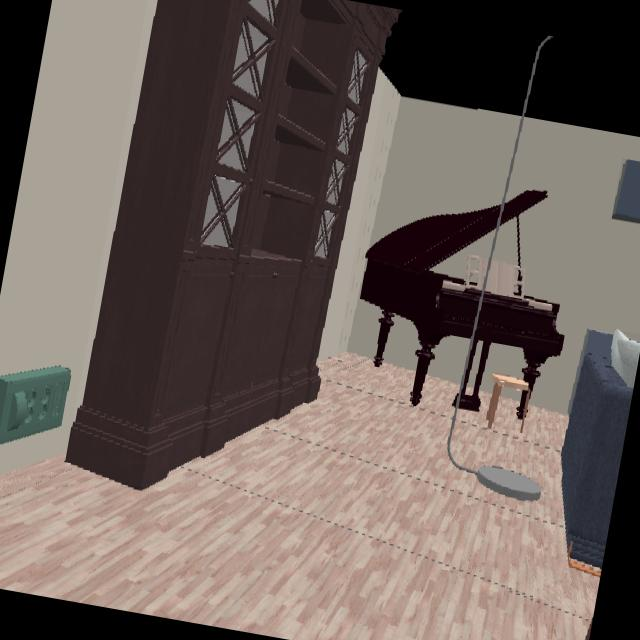bookshelf: (66, 0, 396, 487)
cabinet: (612, 160, 640, 222)
pillow: (611, 330, 640, 386)
sofa: (561, 330, 633, 570)
